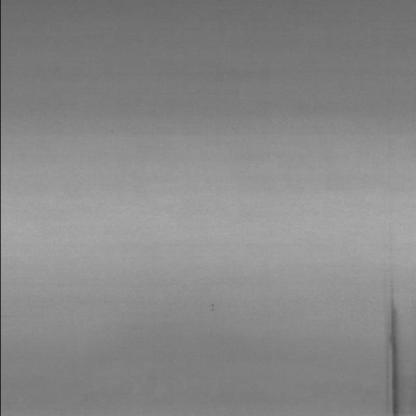crease: (364, 276, 410, 416)
